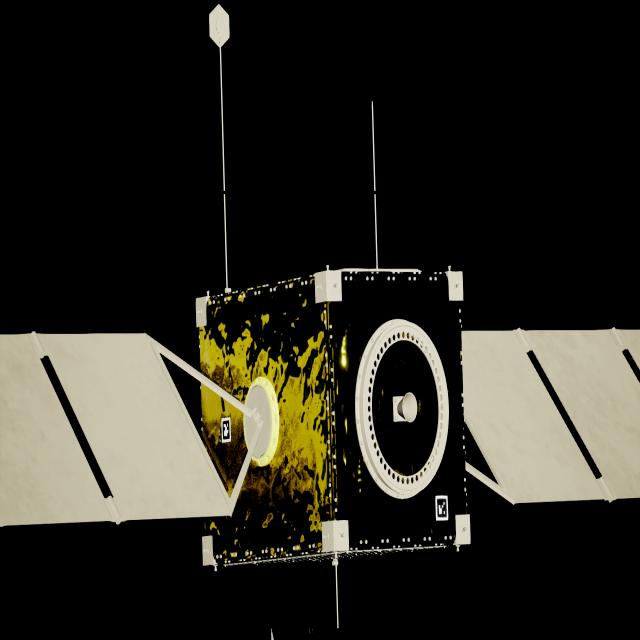satellite: (0, 269, 640, 565)
